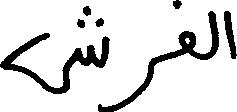X: (0, 1, 106, 111), (108, 33, 154, 111), (179, 0, 193, 61), (226, 6, 236, 63), (210, 6, 216, 62)
